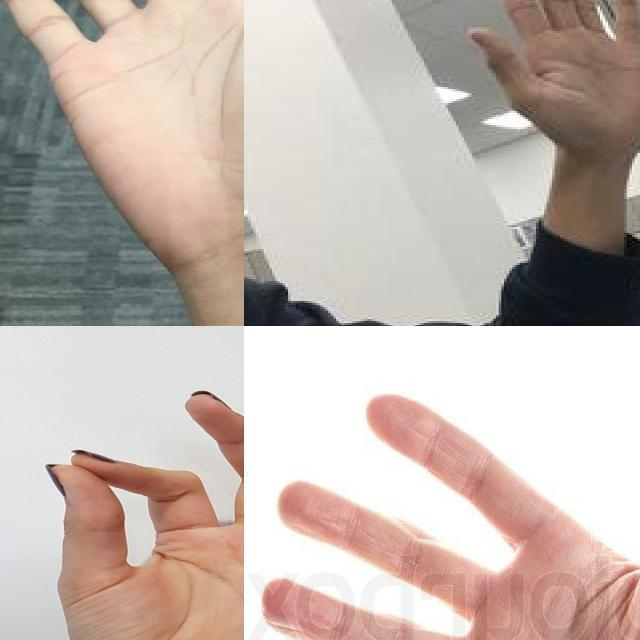hand: (262, 378, 640, 640), (0, 0, 244, 263), (29, 390, 244, 640), (470, 0, 640, 147)
